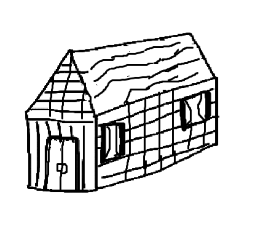door: (41, 130, 85, 197)
open_window: (177, 88, 216, 133), (97, 119, 127, 166)
roof: (25, 32, 219, 122)
wall: (90, 72, 231, 192), (26, 44, 101, 195)
